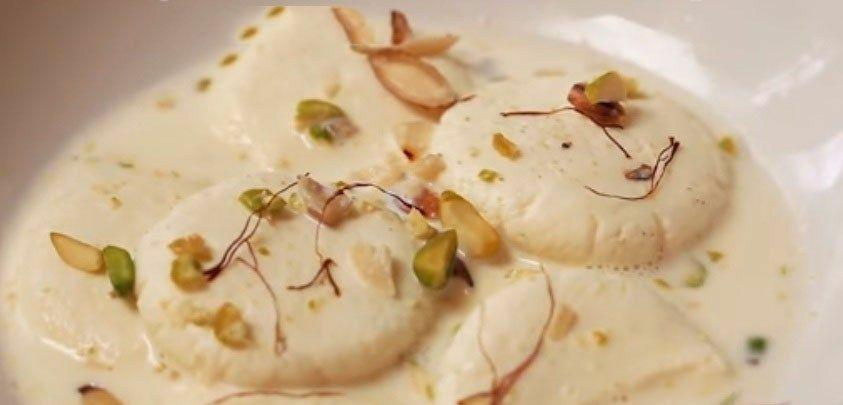RasMalai: (0, 0, 806, 405)
